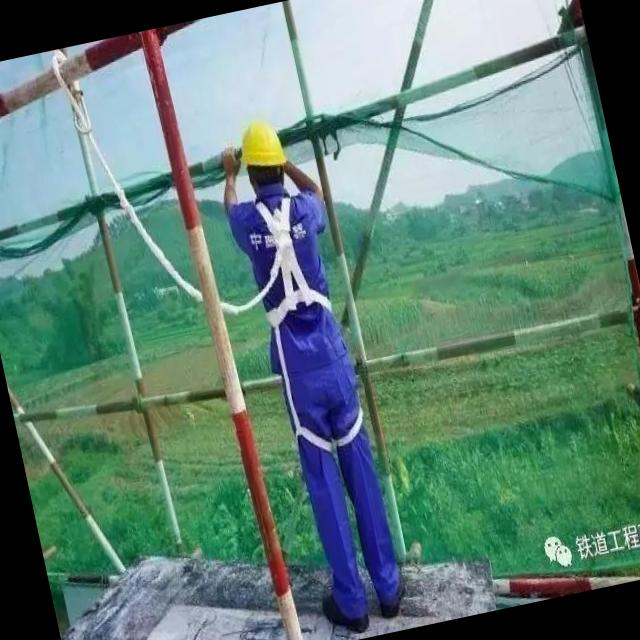helmet: (228, 114, 294, 187)
vest: (219, 172, 365, 402)
